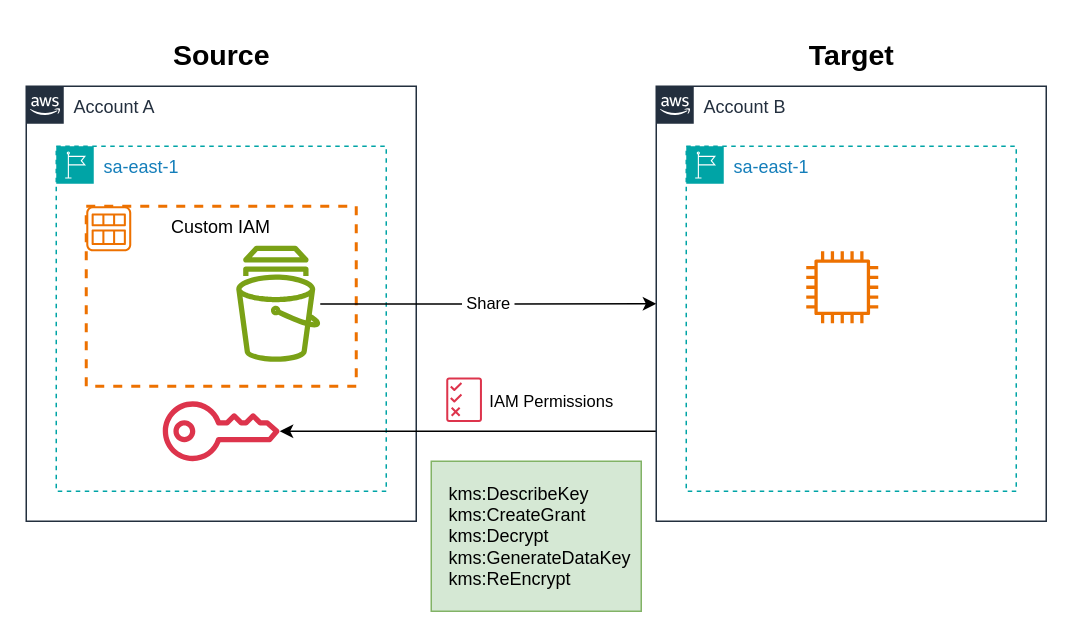
The diagram is 1073 pixels wide and 638 high, and some of its shapes have lost their labels. Here are the shapes that lost their labels. From the top down, the centre of each, then its label:
At [278,303]: "EBS Snapshot (encrypted)".
At [842,286]: "EC2 Instance (AMI: Custom AMI)".
At [220,430]: "CMK - A".
